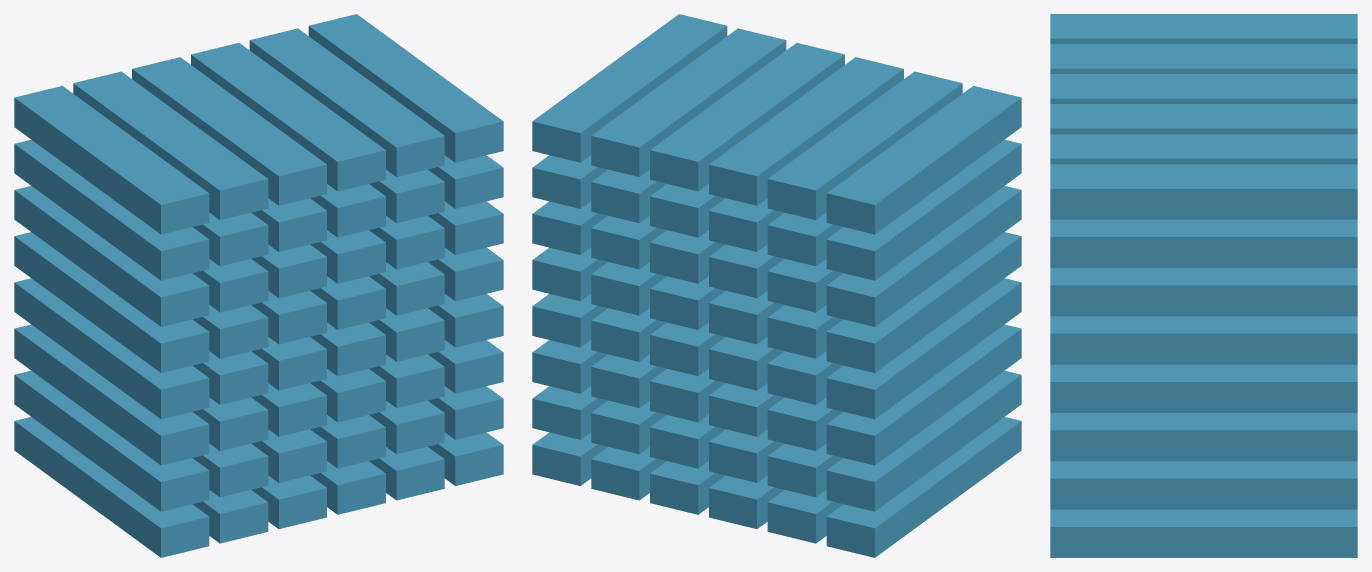
The model's file is FacadeKit_TowerWindowGrid_LOD0.glb.
3 renders of one model, left to right at view 1: azimuth 30°, elevation 25°; view 2: azimuth 150°, elevation 25°; view 3: azimuth 270°, elevation 25°, orthographic. The views are drawn at different scales.
Parts seen in each view (by area): view 1: FacadeKit_TowerWindowGrid_LOD0; view 2: FacadeKit_TowerWindowGrid_LOD0; view 3: FacadeKit_TowerWindowGrid_LOD0.
Part boxes in pixels (bbox=[...]): FacadeKit_TowerWindowGrid_LOD0: bbox=[14, 14, 503, 557]; FacadeKit_TowerWindowGrid_LOD0: bbox=[532, 14, 1021, 557]; FacadeKit_TowerWindowGrid_LOD0: bbox=[1050, 14, 1357, 557].
Size of the model in its own units: 0.97 by 0.955 by 0.72.
